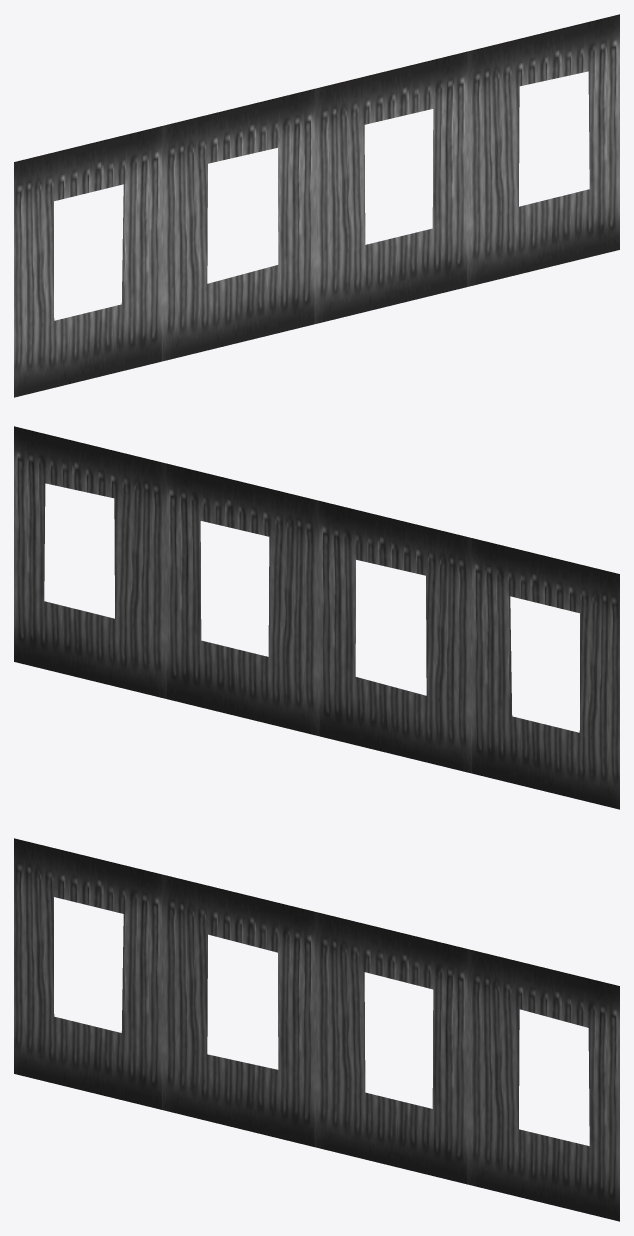
Rendered from W_AI1_ffff [Wellblech]_825.glb.
3 renders of one model, top to bottom at view 1: azimuth 30°, elevation 25°; view 2: azimuth 150°, elevation 25°; view 3: azimuth 330°, elevation 25°, orthographic.
Parts seen in each view (by area): view 1: innenpolySurface601Shape; view 2: innenpolySurface601Shape; view 3: innenpolySurface601Shape.
Part boxes in pixels (x1,y1,x2,y2): innenpolySurface601Shape: (14,14,619,397); innenpolySurface601Shape: (14,426,619,809); innenpolySurface601Shape: (14,838,619,1221).
Size of the model in its own units: 0.9385 by 0.3486 by 1.31e-07.
1 material, 1 textured.
